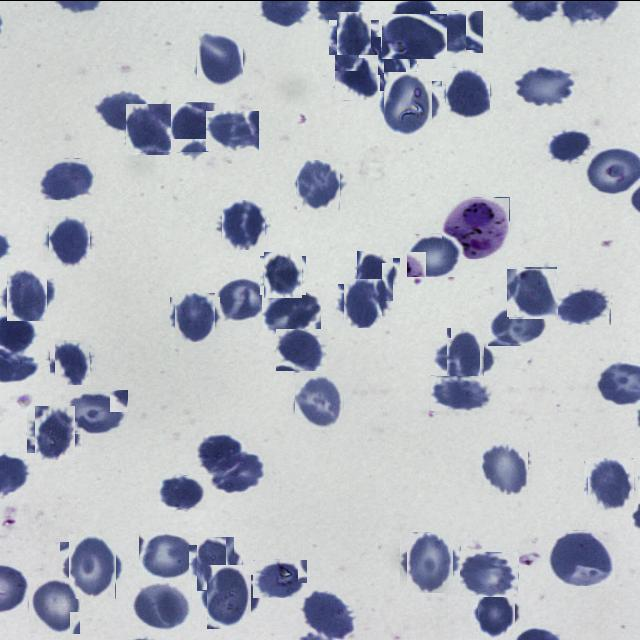red blood cell: (548, 529, 615, 585), (380, 75, 438, 134), (64, 538, 120, 594), (131, 579, 192, 630), (403, 534, 458, 588), (27, 578, 82, 632), (202, 569, 256, 624), (513, 63, 580, 107), (381, 13, 446, 58), (292, 374, 346, 426), (65, 389, 128, 433), (460, 550, 519, 596), (262, 289, 321, 335), (478, 440, 530, 492), (139, 532, 196, 578), (194, 32, 246, 82), (302, 590, 356, 638), (440, 334, 491, 384), (209, 450, 266, 494), (170, 102, 220, 152), (586, 458, 636, 508), (508, 267, 558, 317), (407, 232, 462, 276), (488, 304, 546, 345), (40, 157, 96, 199), (430, 9, 484, 52), (366, 39, 414, 87), (124, 104, 172, 152), (555, 284, 612, 324), (444, 68, 491, 116), (220, 200, 267, 248), (31, 408, 78, 456), (218, 274, 265, 322), (431, 374, 493, 410), (295, 162, 342, 208), (253, 558, 308, 597), (276, 328, 327, 370), (206, 110, 259, 150), (46, 218, 92, 264), (192, 540, 238, 586), (4, 271, 50, 317), (196, 432, 245, 475), (172, 294, 218, 338), (474, 592, 518, 636), (341, 280, 385, 324), (334, 55, 378, 99), (98, 90, 146, 130), (354, 254, 396, 298), (262, 253, 304, 296), (333, 15, 375, 58), (158, 474, 206, 509), (52, 342, 93, 382), (548, 129, 591, 161)
trophozoite: (442, 196, 510, 258)
